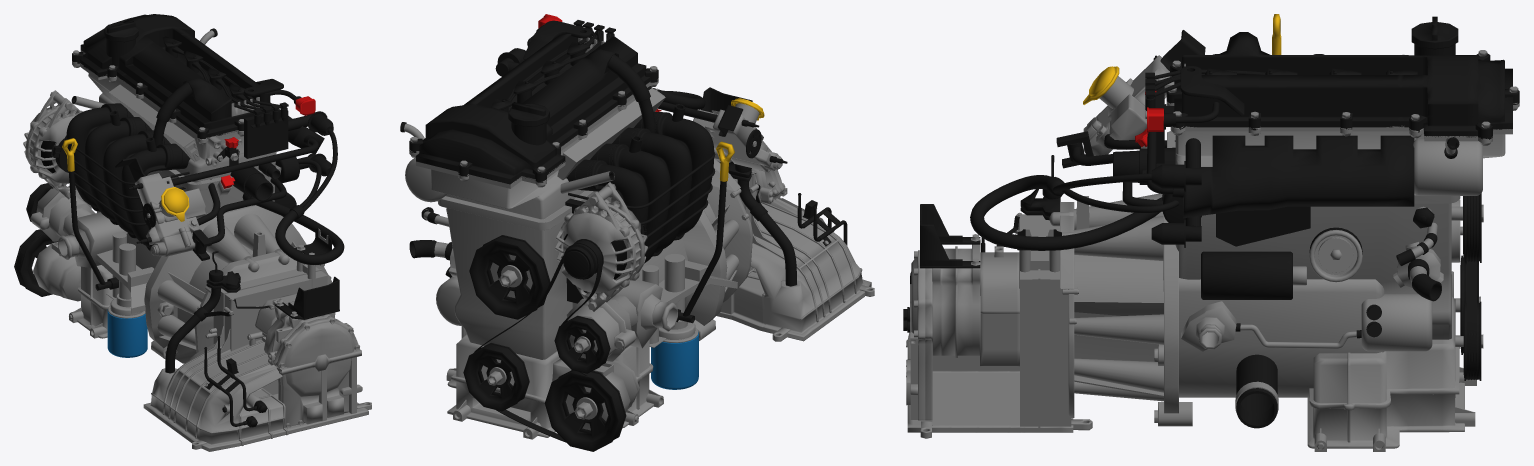
The model's file is Motor.fbx.
3 renders of one model, left to right at view 1: azimuth 30°, elevation 25°; view 2: azimuth 150°, elevation 25°; view 3: azimuth 270°, elevation 25°, orthographic. The views are drawn at different scales.
Parts seen in each view (by area): view 1: kappa_engine_metal_silver, kappa_engine_plastic_black, kappa_engine_metal_black, kappa_engine_metal_silver0, kappa_engine_metal_silver1, kappa_engine_metal_blue, kappa_engine_yellow_metal, kappa_engine_metal_red, kappa_engine_metal_black0; view 2: kappa_engine_metal_silver, kappa_engine_plastic_black, kappa_engine_metal_black, kappa_engine_metal_blue, kappa_engine_yellow_metal, kappa_engine_plastic_black0, kappa_engine_metal_silver4, kappa_engine_metal_silver2; view 3: kappa_engine_metal_silver, kappa_engine_plastic_black, kappa_engine_metal_black, kappa_engine_metal_silver2, kappa_engine_metal_silver0, kappa_engine_metal_black1, kappa_engine_plastic_black0, kappa_engine_yellow_metal.
Boxes of the visible parts, left/top/right/bottom form: kappa_engine_metal_silver: left=23, top=50, right=371, bottom=451; kappa_engine_plastic_black: left=17, top=14, right=324, bottom=282; kappa_engine_metal_black: left=14, top=79, right=344, bottom=427; kappa_engine_metal_silver0: left=273, top=314, right=359, bottom=427; kappa_engine_metal_silver1: left=288, top=325, right=353, bottom=394; kappa_engine_metal_blue: left=107, top=309, right=147, bottom=357; kappa_engine_yellow_metal: left=62, top=138, right=189, bottom=221; kappa_engine_metal_red: left=220, top=96, right=315, bottom=188; kappa_engine_metal_black0: left=295, top=228, right=331, bottom=254; kappa_engine_metal_silver: left=405, top=37, right=874, bottom=439; kappa_engine_plastic_black: left=409, top=25, right=787, bottom=442; kappa_engine_metal_black: left=444, top=20, right=847, bottom=451; kappa_engine_metal_blue: left=651, top=332, right=698, bottom=389; kappa_engine_yellow_metal: left=716, top=98, right=764, bottom=181; kappa_engine_plastic_black0: left=400, top=122, right=439, bottom=258; kappa_engine_metal_silver4: left=560, top=171, right=614, bottom=193; kappa_engine_metal_silver2: left=404, top=123, right=449, bottom=257; kappa_engine_metal_silver: left=906, top=50, right=1519, bottom=451; kappa_engine_plastic_black: left=1056, top=16, right=1519, bottom=378; kappa_engine_metal_black: left=903, top=30, right=1481, bottom=380; kappa_engine_metal_silver2: left=1240, top=136, right=1455, bottom=348; kappa_engine_metal_silver0: left=906, top=250, right=932, bottom=420; kappa_engine_metal_black1: left=1236, top=354, right=1277, bottom=428; kappa_engine_plastic_black0: left=1235, top=137, right=1459, bottom=338; kappa_engine_yellow_metal: left=1083, top=14, right=1281, bottom=104.
Bounding box in the file's own units: 81.89 × 88.49 × 134.
